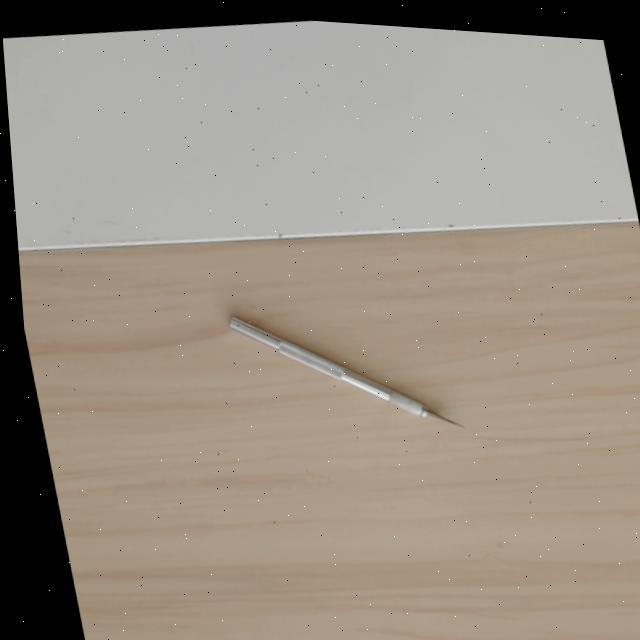Cutter-Kecil: (226, 316, 464, 434)
